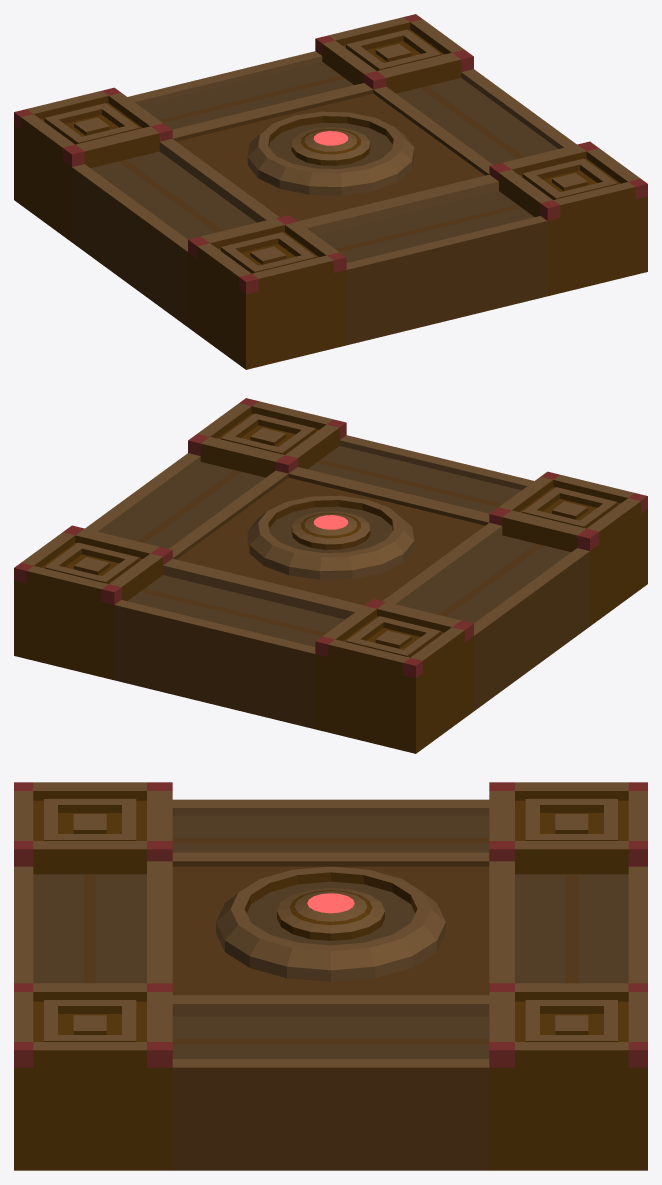
The model's file is pressure_plate_activated.gltf.
3 renders of one model, top to bottom at view 1: azimuth 30°, elevation 25°; view 2: azimuth 150°, elevation 25°; view 3: azimuth 270°, elevation 25°, orthographic. The views are drawn at different scales.
Visible parts, largest first — view 1: weight tile; view 2: weight tile; view 3: weight tile.
Boxes of the visible parts, bbox=[...] form: weight tile: bbox=[14, 14, 647, 369]; weight tile: bbox=[14, 398, 647, 753]; weight tile: bbox=[14, 782, 647, 1170].
Size of the model in its own units: 5.52 by 1.28 by 5.52.
